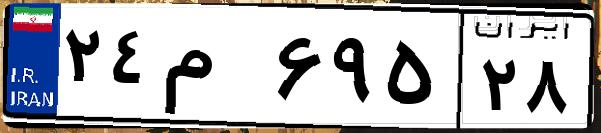2: (57, 26, 110, 100), (475, 38, 525, 113)
4: (110, 28, 158, 98)
5: (385, 28, 445, 110)
6: (270, 28, 330, 110)
8: (525, 38, 570, 115)
9: (330, 28, 385, 110)
م: (158, 20, 270, 120)
